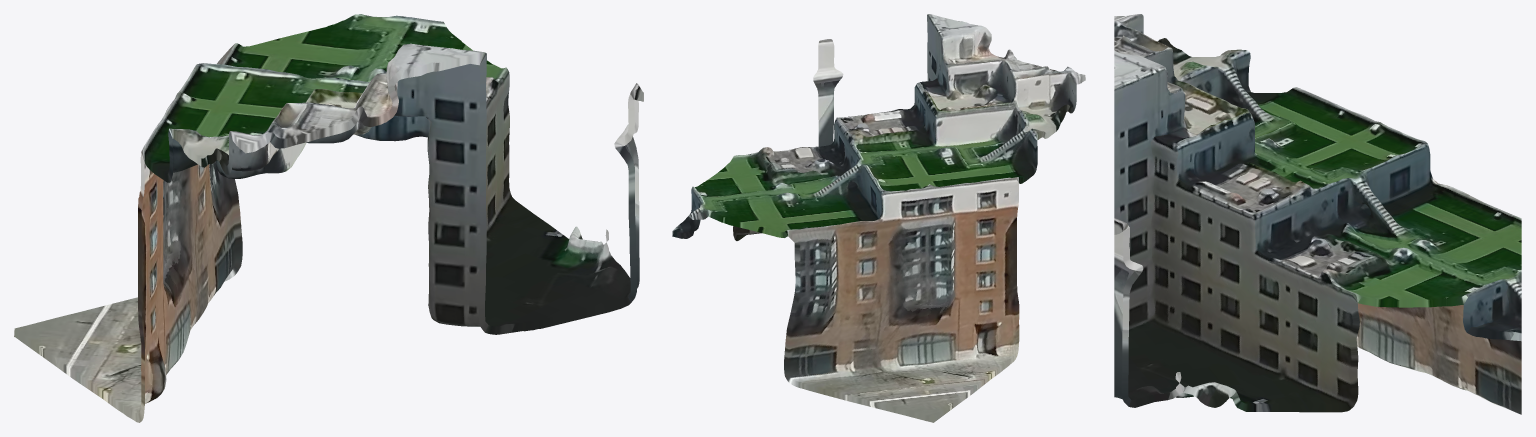
Rendered from z20-167791-405227-h0-yup-uvflip-v3-world.glb.
3 views of the same model, side by side, from view 1: azimuth 30°, elevation 25°; view 2: azimuth 150°, elevation 25°; view 3: azimuth 270°, elevation 25° (orthographic). The views are drawn at different scales.
Bounding box in the file's own units: 30.2 × 28.76 × 30.32.
1 material, 1 textured.
